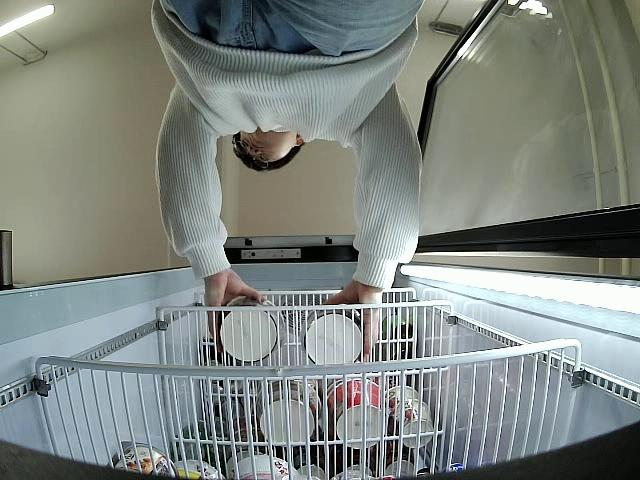00_hand: (319, 281, 381, 363), (204, 265, 265, 336)
07_buldak_L: (220, 296, 284, 364), (300, 304, 365, 366)
